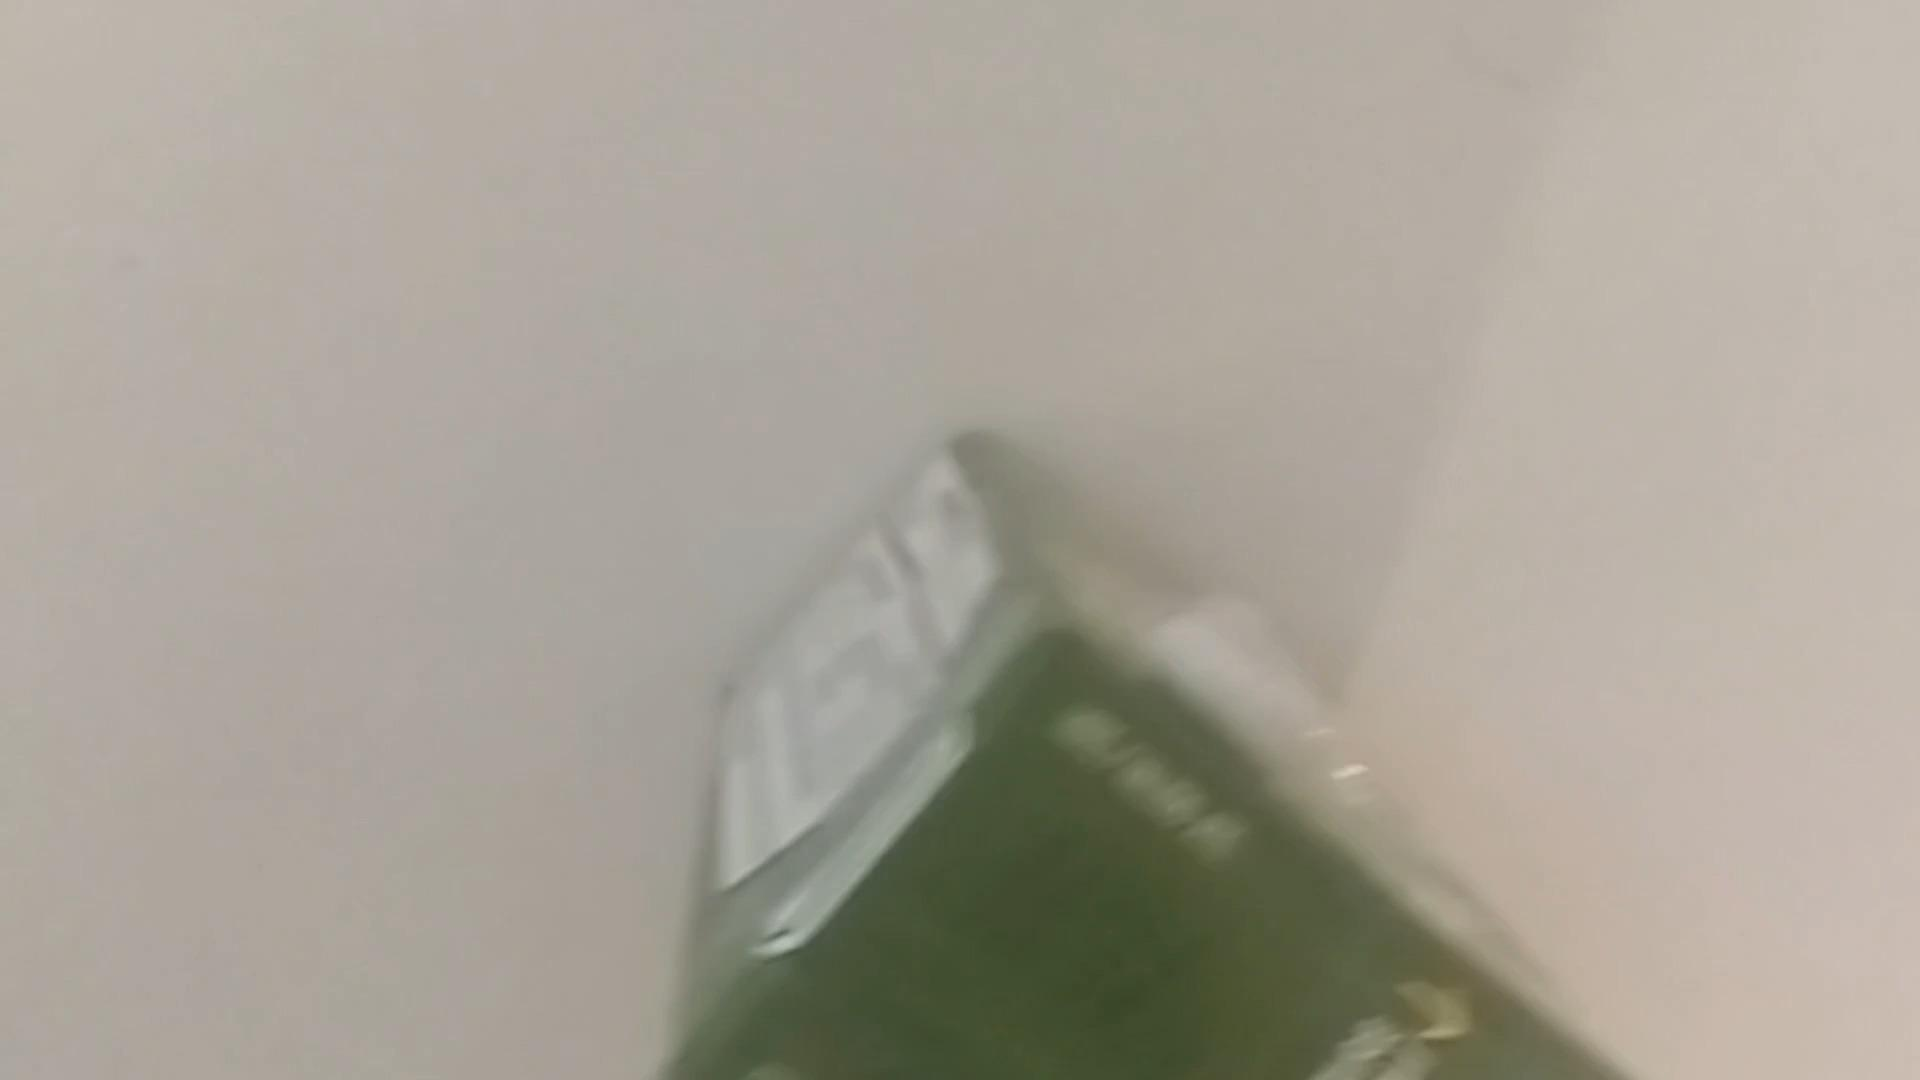coco: (647, 425, 1679, 1080)
